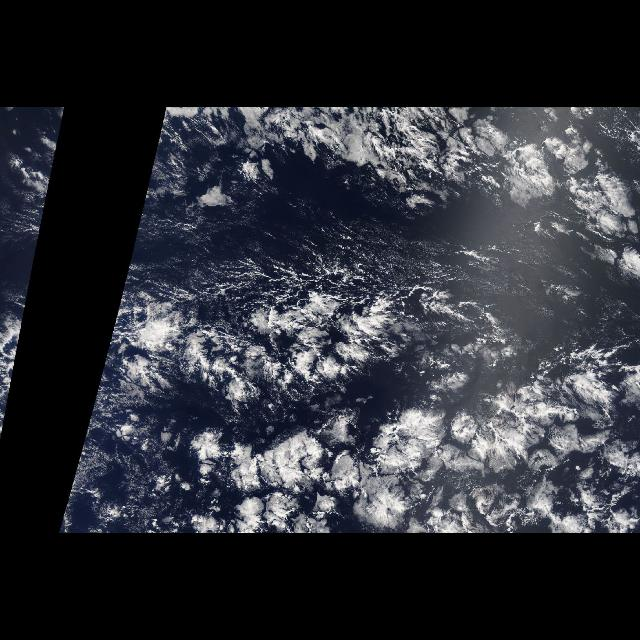Fish: (91, 241, 496, 411), (1, 241, 39, 411)
Flower: (176, 283, 640, 533)
Sugar: (103, 206, 637, 368), (12, 206, 48, 368)
